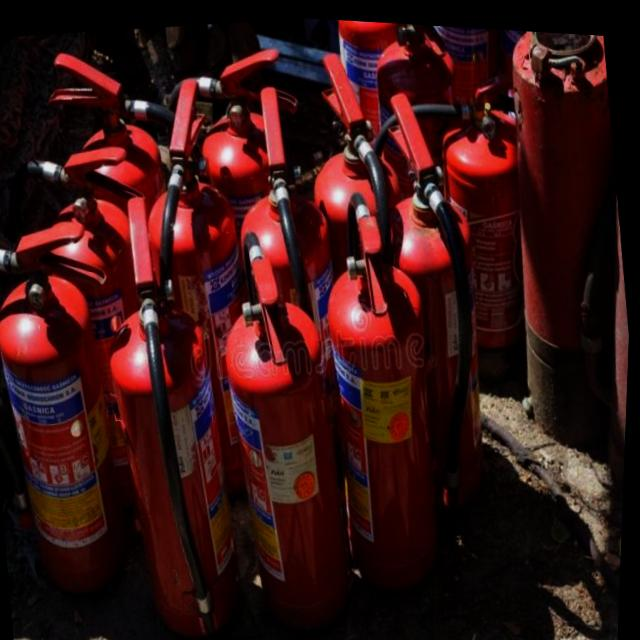FireExtinguisher: (25, 34, 233, 490), (82, 180, 265, 640), (0, 129, 195, 553), (335, 50, 561, 406), (210, 71, 379, 537), (347, 74, 517, 534), (197, 213, 380, 640), (113, 63, 285, 516), (144, 29, 341, 416), (282, 40, 448, 499), (303, 175, 467, 599), (0, 206, 151, 619), (353, 17, 485, 302), (324, 15, 432, 241), (401, 19, 525, 212)
